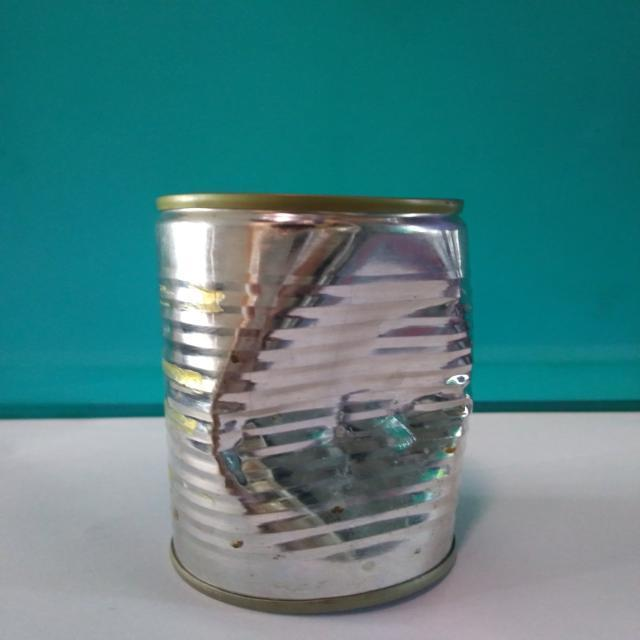metal-can: (154, 190, 477, 620)
